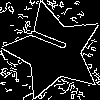I: (29, 26, 77, 56)
